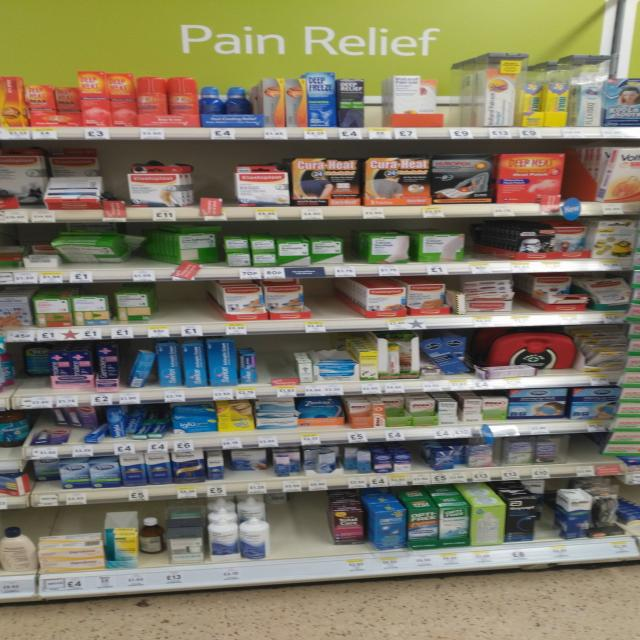empty: (269, 493, 327, 555), (155, 282, 217, 332), (435, 70, 479, 127), (192, 141, 238, 194), (257, 341, 298, 395), (469, 225, 517, 266), (307, 282, 355, 320), (567, 432, 602, 467)
